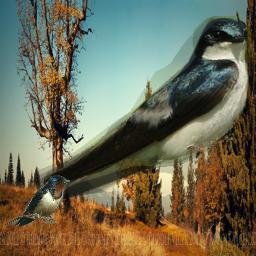Swallow: (37, 16, 253, 206), (4, 175, 70, 227)
